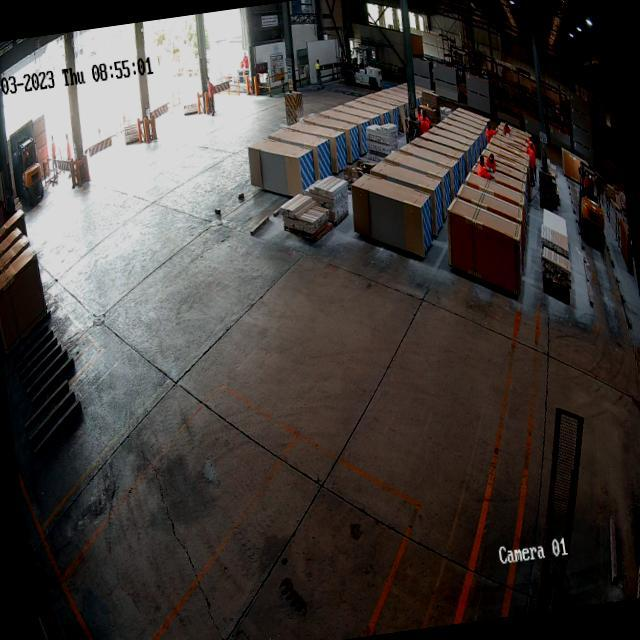forklift: (570, 157, 612, 250), (10, 133, 48, 213), (342, 41, 385, 97)
person: (526, 142, 540, 187), (476, 152, 492, 184), (205, 76, 215, 100)
